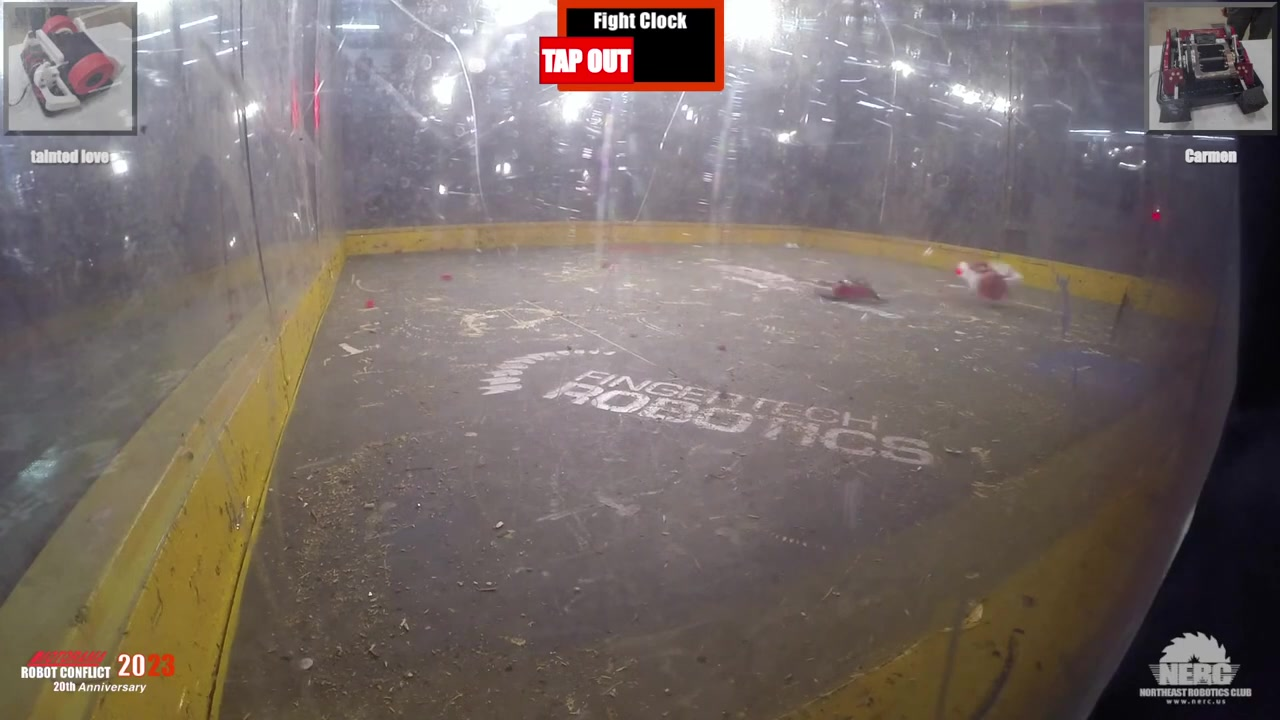combatbot: (959, 259, 1022, 301), (823, 278, 882, 306)
